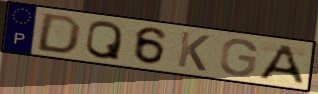6: (132, 25, 169, 67)
A: (256, 43, 307, 86)
D: (33, 12, 84, 56)
G: (218, 37, 259, 78)
K: (175, 30, 212, 73)
Q: (83, 19, 124, 62)
